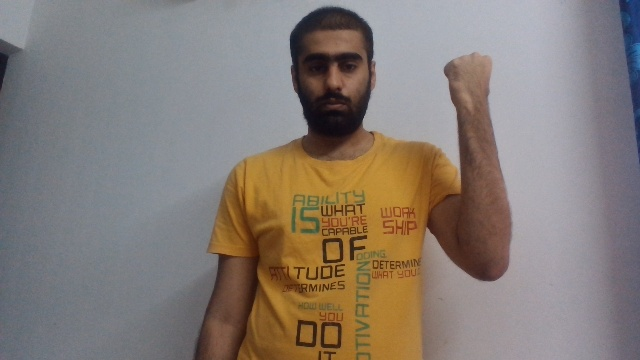rock: (441, 50, 493, 104)
